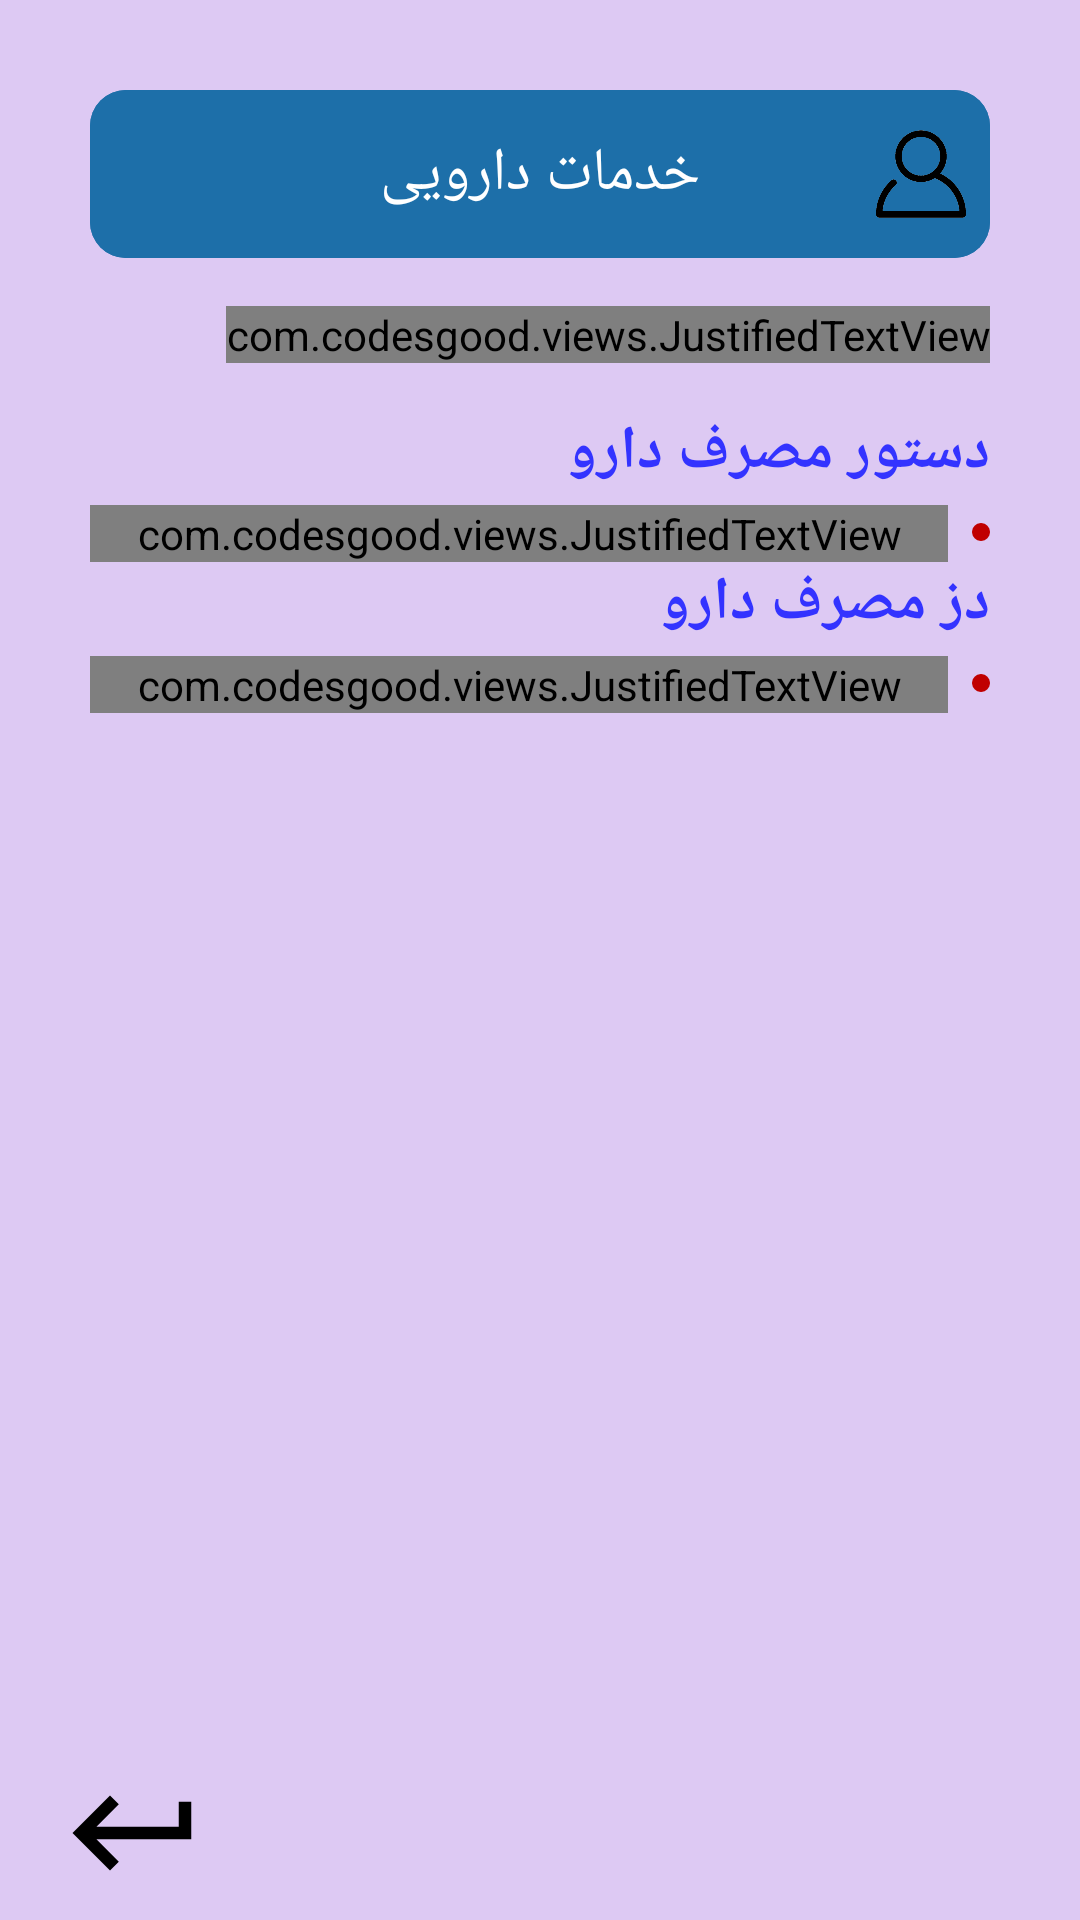

Where icons sit on this 1080px×1920px app screen, as bbox=[x1, y1, x2, y2]:
keyboard return: bbox=[72, 1795, 192, 1871]
